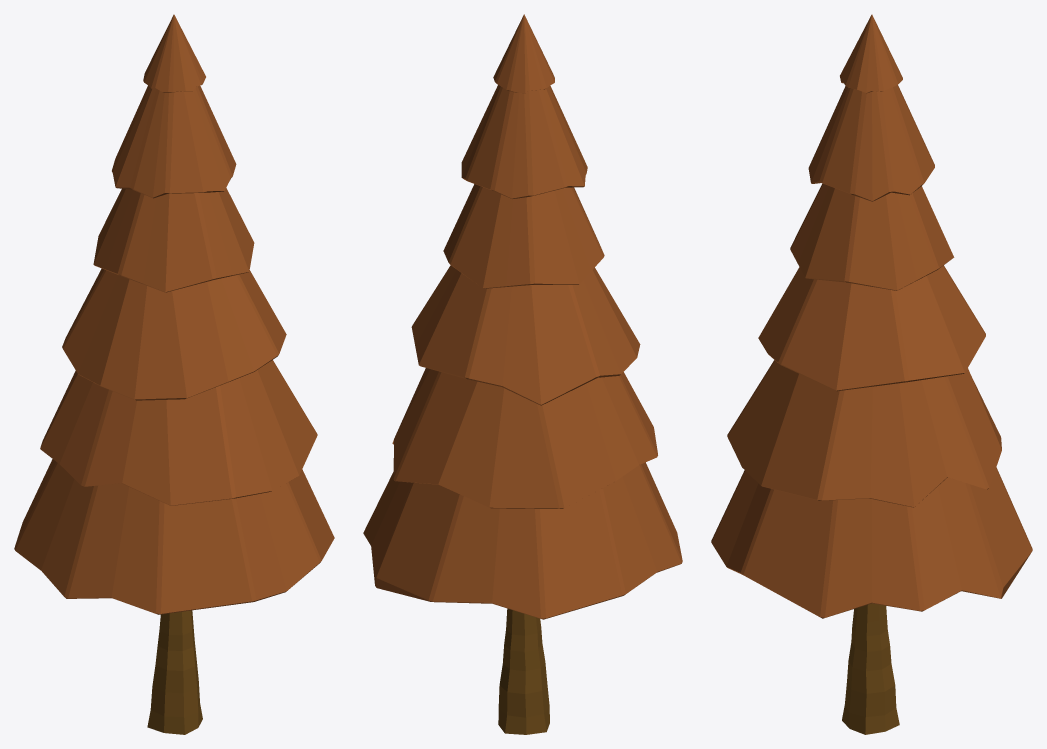
File: pine-tree-1.glb
3 views of the same model, side by side, from view 1: azimuth 30°, elevation 25°; view 2: azimuth 150°, elevation 25°; view 3: azimuth 270°, elevation 25° (orthographic).
Parts seen in each view (by area): view 1: Pine tree 1; view 2: Pine tree 1; view 3: Pine tree 1.
Boxes of the visible parts, bbox=[...] form: Pine tree 1: bbox=[14, 14, 334, 734]; Pine tree 1: bbox=[363, 14, 682, 734]; Pine tree 1: bbox=[711, 14, 1032, 734].
Bounding box in the file's own units: 8.67 × 21.79 × 8.95.
